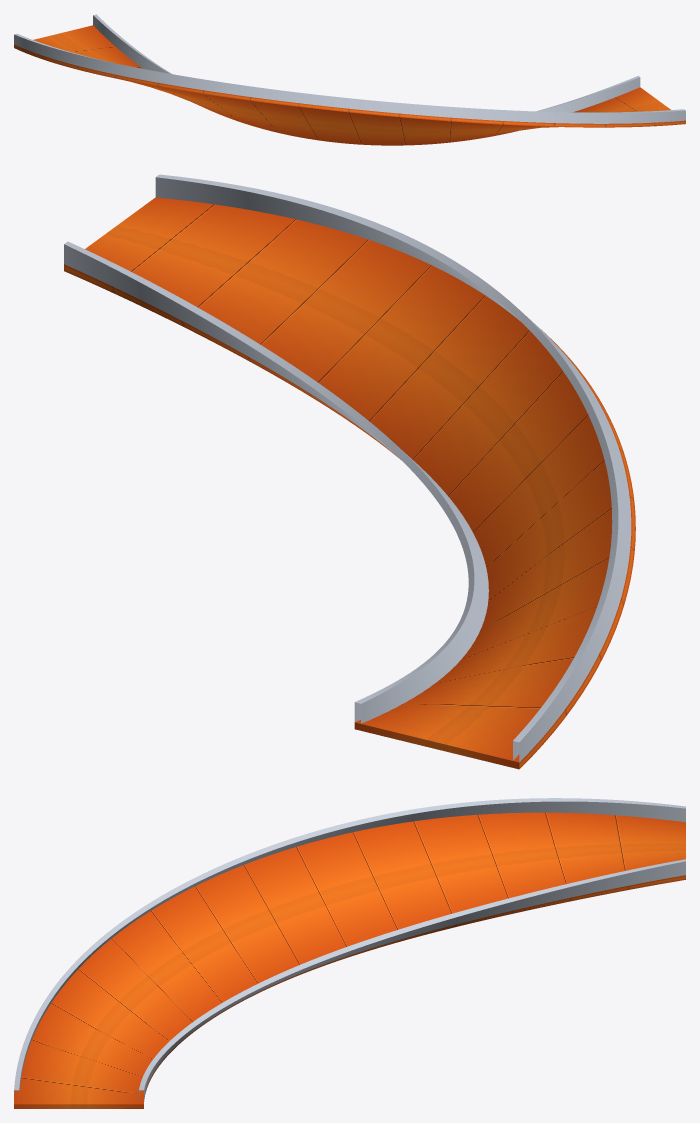
Rendered from turn-90-r14.glb.
3 renders of one model, top to bottom at view 1: azimuth 30°, elevation 25°; view 2: azimuth 150°, elevation 25°; view 3: azimuth 270°, elevation 25°, orthographic. The views are drawn at different scales.
Bounding box in the file's own units: 15.5 × 2.45 × 15.5.
2 materials, 1 textured.
